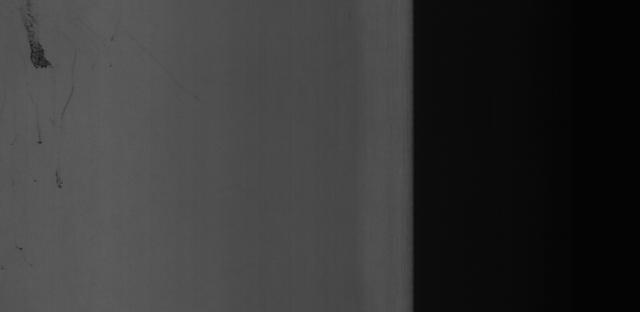inclusion: (19, 25, 51, 77), (44, 168, 70, 200), (28, 115, 46, 147)
